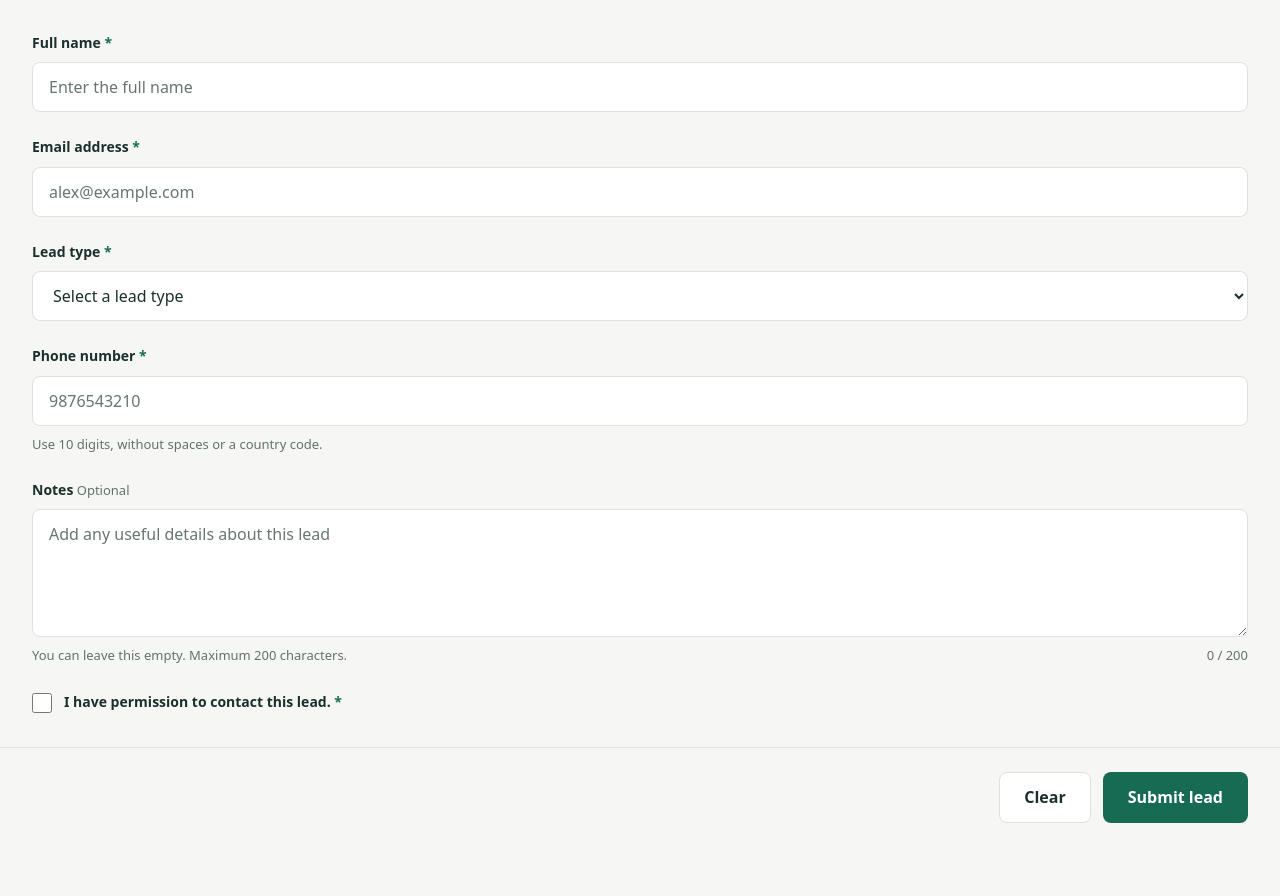
Scenario: form interactions › blocks invalid submission, shows every current error and focuses the first invalid input
Click the button "Submit lead": coordinates (1175, 798) [1103,772,1248,823]
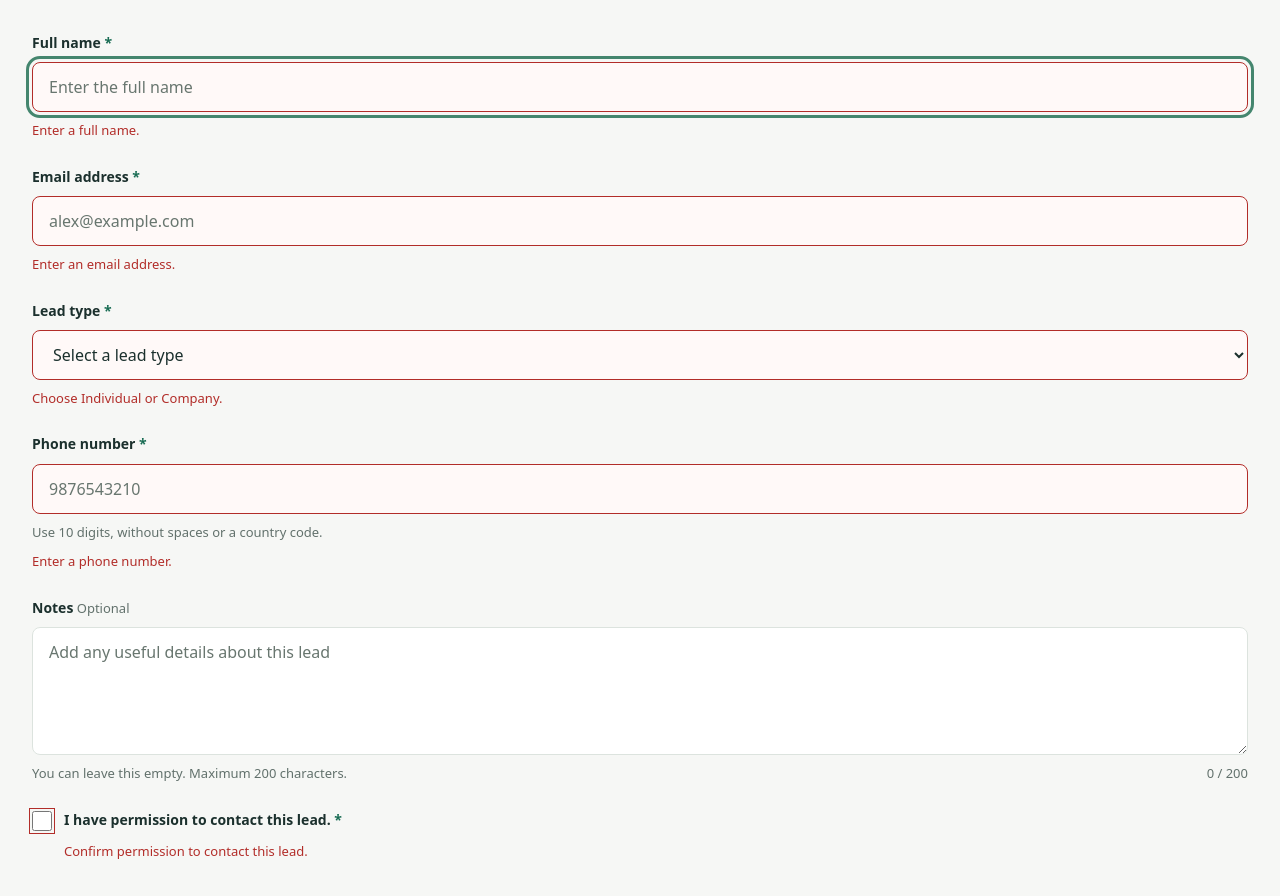
expect the text "Enter a full name." is shown: met, box [32,121,140,139]
expect the text "Enter an email address." is shown: met, box [32,255,175,273]
expect the text "Choose Individual or Company." is shown: met, box [32,389,222,407]
